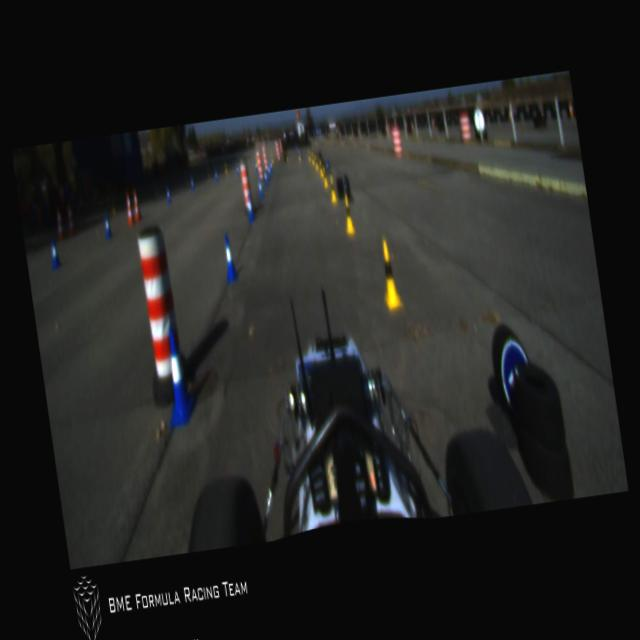blue_cone: (156, 330, 198, 428), (220, 233, 238, 281), (49, 238, 60, 268), (103, 213, 113, 238), (246, 195, 255, 221), (165, 184, 172, 204), (190, 174, 196, 191), (258, 181, 263, 197), (214, 169, 219, 183), (264, 172, 268, 185), (236, 164, 240, 176), (254, 162, 258, 174), (270, 162, 274, 174), (268, 166, 271, 176)
large_orange_cone: (66, 206, 78, 238), (55, 210, 66, 242), (124, 191, 134, 226), (132, 189, 142, 222)
yellow_cone: (376, 238, 404, 310), (341, 193, 356, 235), (328, 176, 337, 203), (321, 166, 329, 188), (318, 160, 324, 177), (306, 148, 312, 164), (314, 154, 319, 172), (297, 150, 302, 163), (311, 153, 315, 166), (285, 150, 289, 163), (224, 162, 228, 174), (270, 153, 274, 165), (256, 158, 258, 166)
